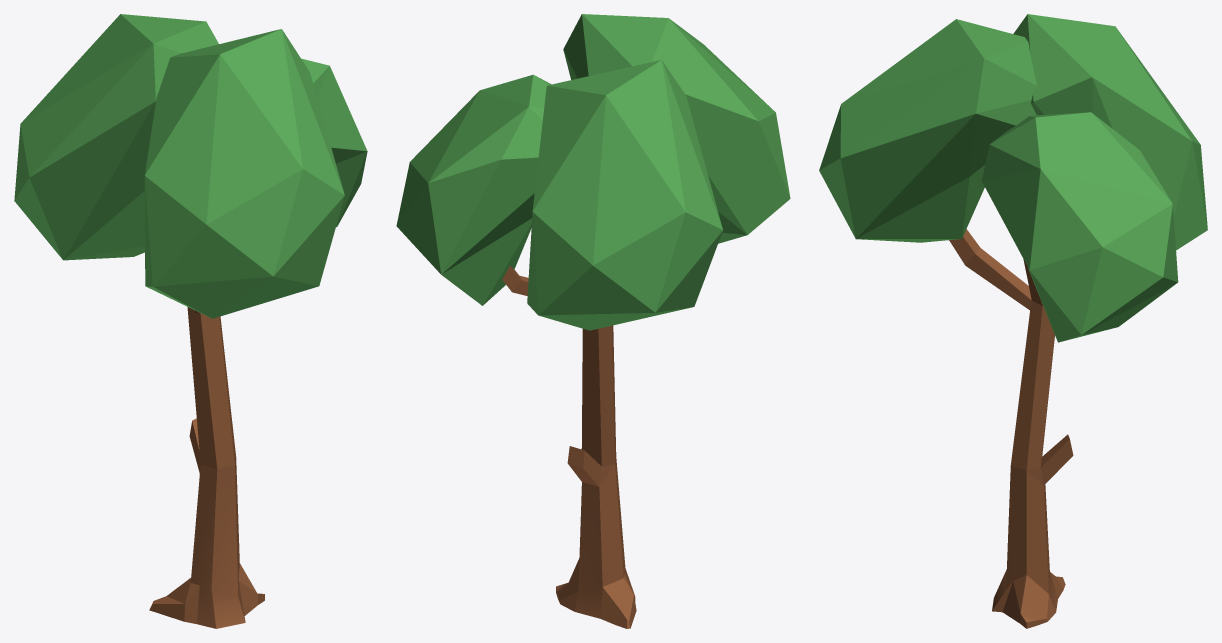
File: foliage_tree_01.fbx
The picture shows the model from 3 angles, left to right: view 1: azimuth 30°, elevation 25°; view 2: azimuth 150°, elevation 25°; view 3: azimuth 270°, elevation 25°; orthographic projection. The views are drawn at different scales.
Visible parts, largest first — view 1: foliage_tree_01; view 2: foliage_tree_01; view 3: foliage_tree_01.
Part boxes in pixels (x1,y1,x2,y2): foliage_tree_01: (14,14,367,628); foliage_tree_01: (396,14,790,628); foliage_tree_01: (819,14,1207,628).
Bounding box in the file's own units: 403 × 692 × 426.
